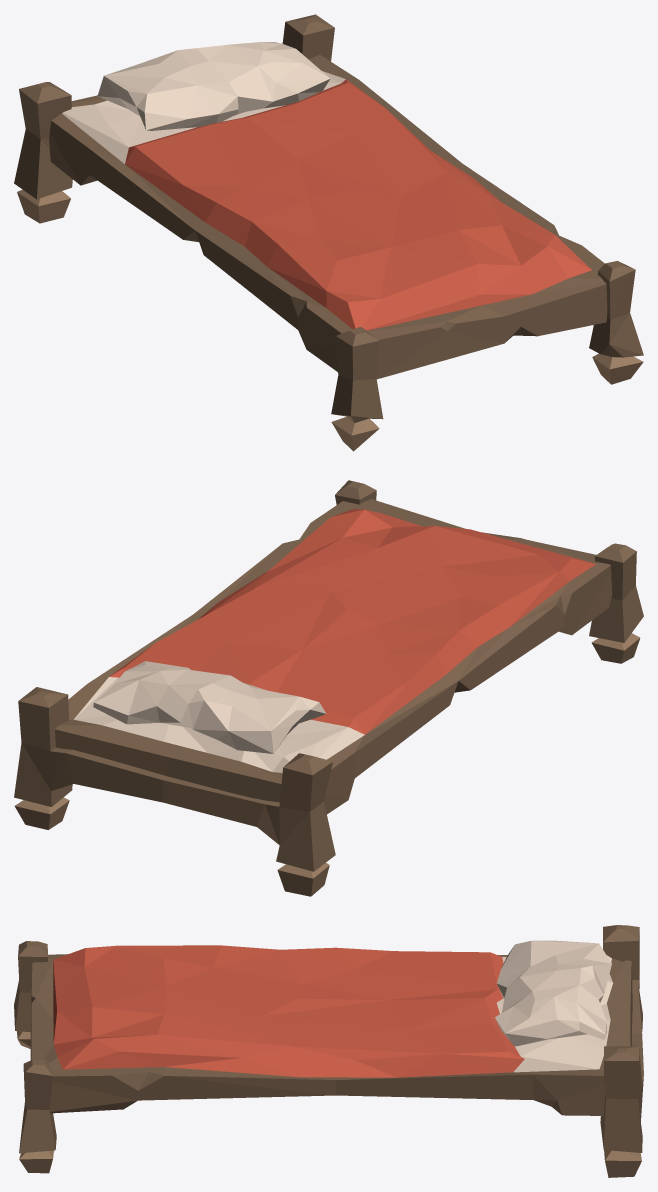
Rendered from SingleBed_Red.fbx.
The picture shows the model from 3 angles, top to bottom: view 1: azimuth 30°, elevation 25°; view 2: azimuth 150°, elevation 25°; view 3: azimuth 270°, elevation 25°; orthographic projection. The views are drawn at different scales.
Parts seen in each view (by area): view 1: SingleBed_Red; view 2: SingleBed_Red; view 3: SingleBed_Red.
Boxes of the visible parts, <box> form: SingleBed_Red: <box>14,14,643,451</box>; SingleBed_Red: <box>14,480,643,896</box>; SingleBed_Red: <box>14,925,643,1177</box>.
Bounding box in the file's own units: 2.81 × 1.36 × 5.39.
